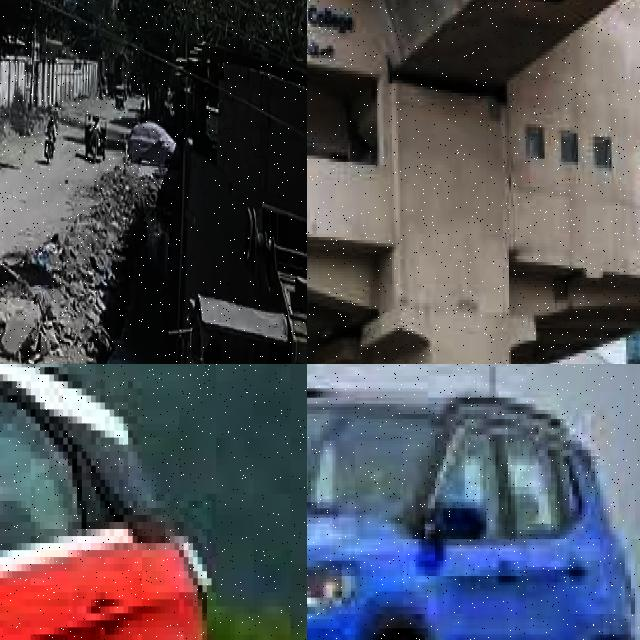bike: (46, 133, 56, 166)
car: (307, 364, 640, 640), (0, 364, 253, 640)
